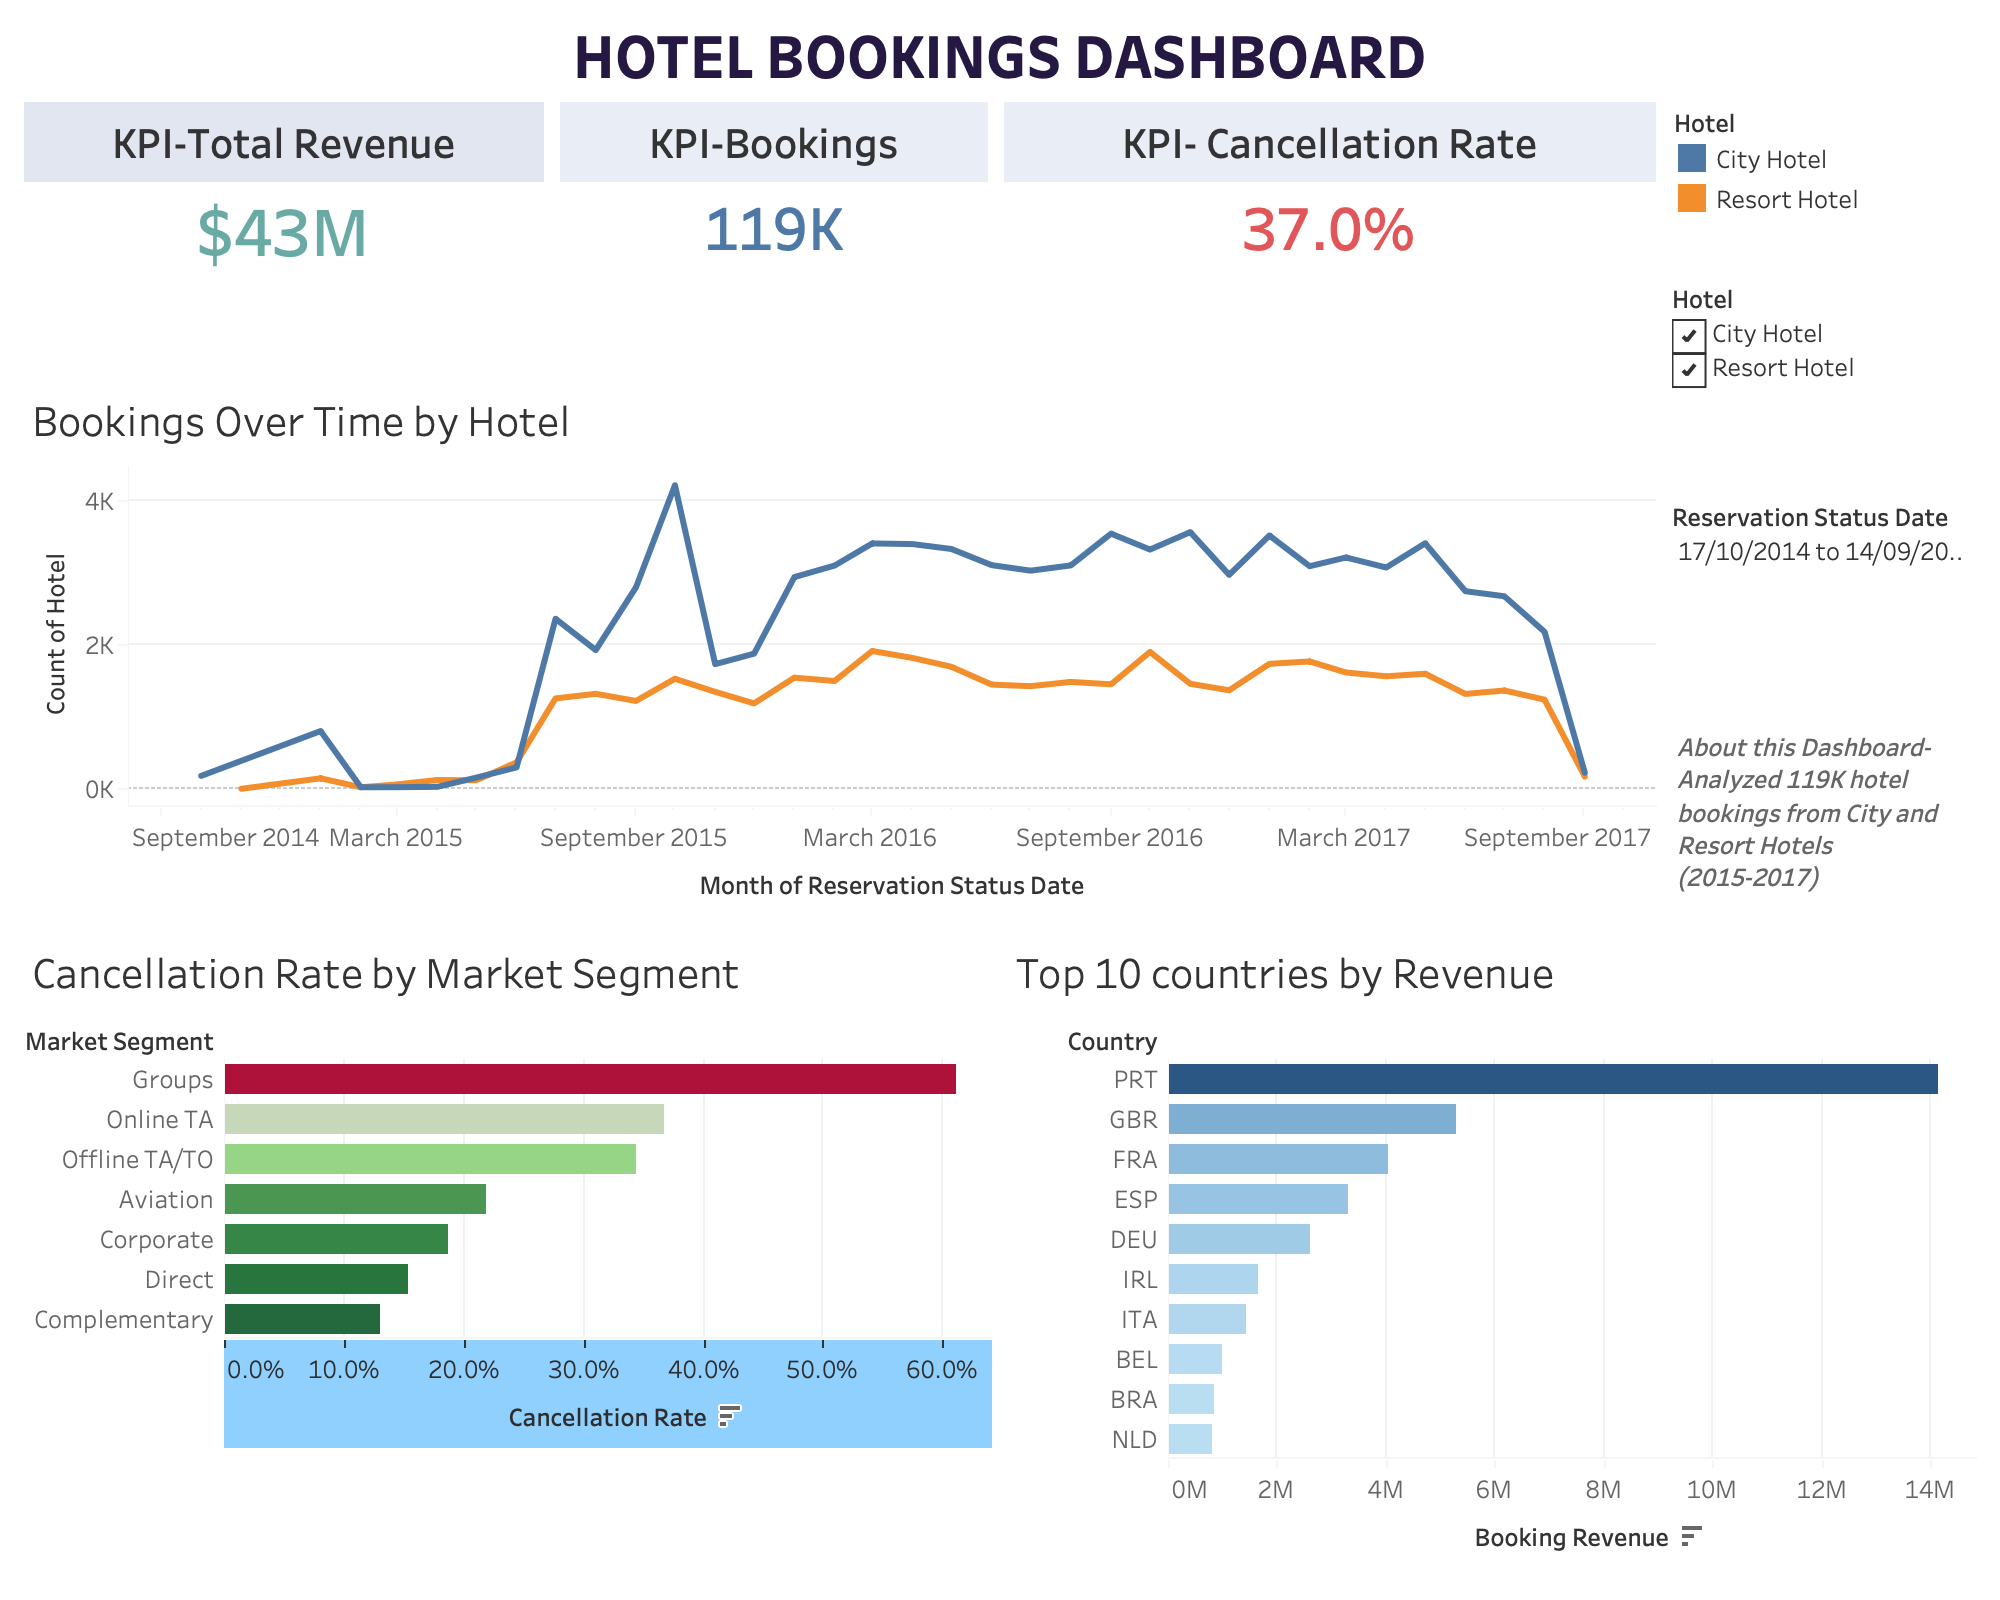

The page's visual inventory and layout, read from the dashboard file:
{"tool":"tableau","page":{"name":"Hotel Bookings Dashboard","canvas":[1000,800],"ordinal":1},"visuals":[{"type":"title","box":[8,8,984,39]},{"type":"worksheet","title":"KPI-Total Revenue","mark":"Text","box":[8,47,268,138.8]},{"type":"worksheet","title":"KPI-Bookings","mark":"Text","box":[276,47,221.9,138.8]},{"type":"worksheet","title":"KPI- Cancellation Rate","mark":"Text","box":[497.9,47,334.1,138.8]},{"type":"legend","title":"Bookings Over Time by Hotel","param":"[federated.0vdesgi1imw4d214jszk21qc29wr].[none:hotel:nk]","box":[832,47,160,89]},{"type":"filter","title":"Bookings Over Time by Hotel","param":"[federated.0vdesgi1imw4d214jszk21qc29wr].[none:hotel:nk]","box":[832,136,160,108.7]},{"type":"worksheet","title":"Bookings Over Time by Hotel","mark":"Line","rows":["hotel"],"cols":["reservation_status_date"],"box":[8,186,824,276]},{"type":"filter","title":"Bookings Over Time by Hotel","param":"[federated.0vdesgi1imw4d214jszk21qc29wr].[none:reservation_status_date:qk]","box":[832,244.7,160,108.7]},{"type":"text","box":[832,353.5,160,108.8]},{"type":"worksheet","title":"Cancellations by Segment","mark":"Automatic","rows":["market_segment"],"cols":["Calculation_0777566537342976"],"box":[8,462.2,492,329.8]},{"type":"worksheet","title":"Revenue by Country","mark":"Automatic","rows":["country"],"cols":["booking_revenue"],"box":[500,462.2,492,329.8]}]}

Visuals, with their boxes in screenshot pixels (x1, y1, x2, y2), scaled from the page's 1000x800 canvas onto the 2000x1600 screenshot:
title: [16, 16, 1984, 94]
"KPI-Total Revenue" worksheet (Text marks): [16, 94, 552, 372]
"KPI-Bookings" worksheet (Text marks): [552, 94, 996, 372]
"KPI- Cancellation Rate" worksheet (Text marks): [996, 94, 1664, 372]
"Bookings Over Time by Hotel" legend: [1664, 94, 1984, 272]
"Bookings Over Time by Hotel" filter: [1664, 272, 1984, 489]
"Bookings Over Time by Hotel" worksheet (Line marks): [16, 372, 1664, 924]
"Bookings Over Time by Hotel" filter: [1664, 489, 1984, 707]
text: [1664, 707, 1984, 925]
"Cancellations by Segment" worksheet: [16, 924, 1000, 1584]
"Revenue by Country" worksheet: [1000, 924, 1984, 1584]
